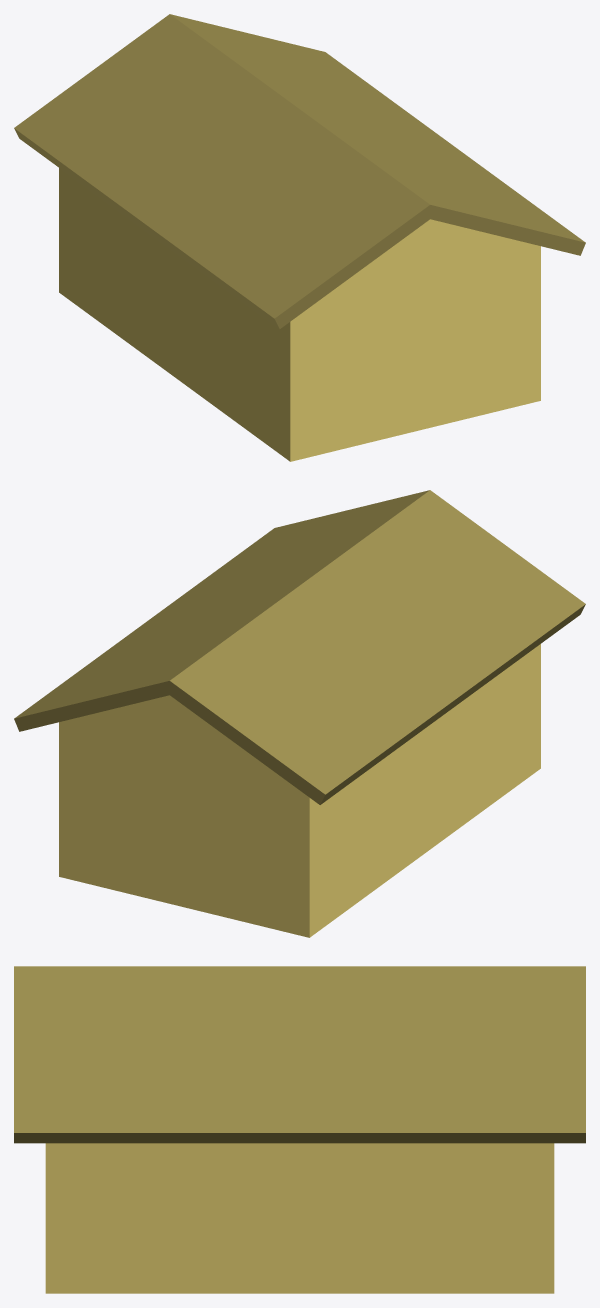
File: result.glb
The picture shows the model from 3 angles, top to bottom: view 1: azimuth 30°, elevation 25°; view 2: azimuth 150°, elevation 25°; view 3: azimuth 270°, elevation 25°; orthographic projection. The views are drawn at different scales.
Visible parts, largest first — view 1: 296a703f-5f63-44bb-b6d4-5554926b17bd__undefined (×2), 1a410fbd-f7c6-46d1-b45c-e20d65364edf__undefined; view 2: 296a703f-5f63-44bb-b6d4-5554926b17bd__undefined (×2), 1a410fbd-f7c6-46d1-b45c-e20d65364edf__undefined; view 3: 296a703f-5f63-44bb-b6d4-5554926b17bd__undefined, 1a410fbd-f7c6-46d1-b45c-e20d65364edf__undefined.
Boxes of the visible parts, x1,y1,x2,y2 form: 296a703f-5f63-44bb-b6d4-5554926b17bd__undefined (×2): (14,14,585,328); 1a410fbd-f7c6-46d1-b45c-e20d65364edf__undefined: (59,168,540,461); 296a703f-5f63-44bb-b6d4-5554926b17bd__undefined (×2): (14,490,585,804); 1a410fbd-f7c6-46d1-b45c-e20d65364edf__undefined: (59,644,540,937); 296a703f-5f63-44bb-b6d4-5554926b17bd__undefined: (14,966,585,1143); 1a410fbd-f7c6-46d1-b45c-e20d65364edf__undefined: (45,1143,554,1293).
Size of the model in its own units: 621 by 452 by 900.
